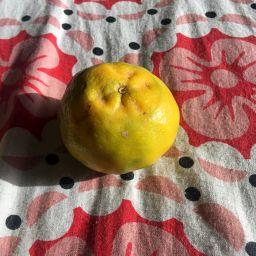Unripe: (62, 59, 179, 175)
